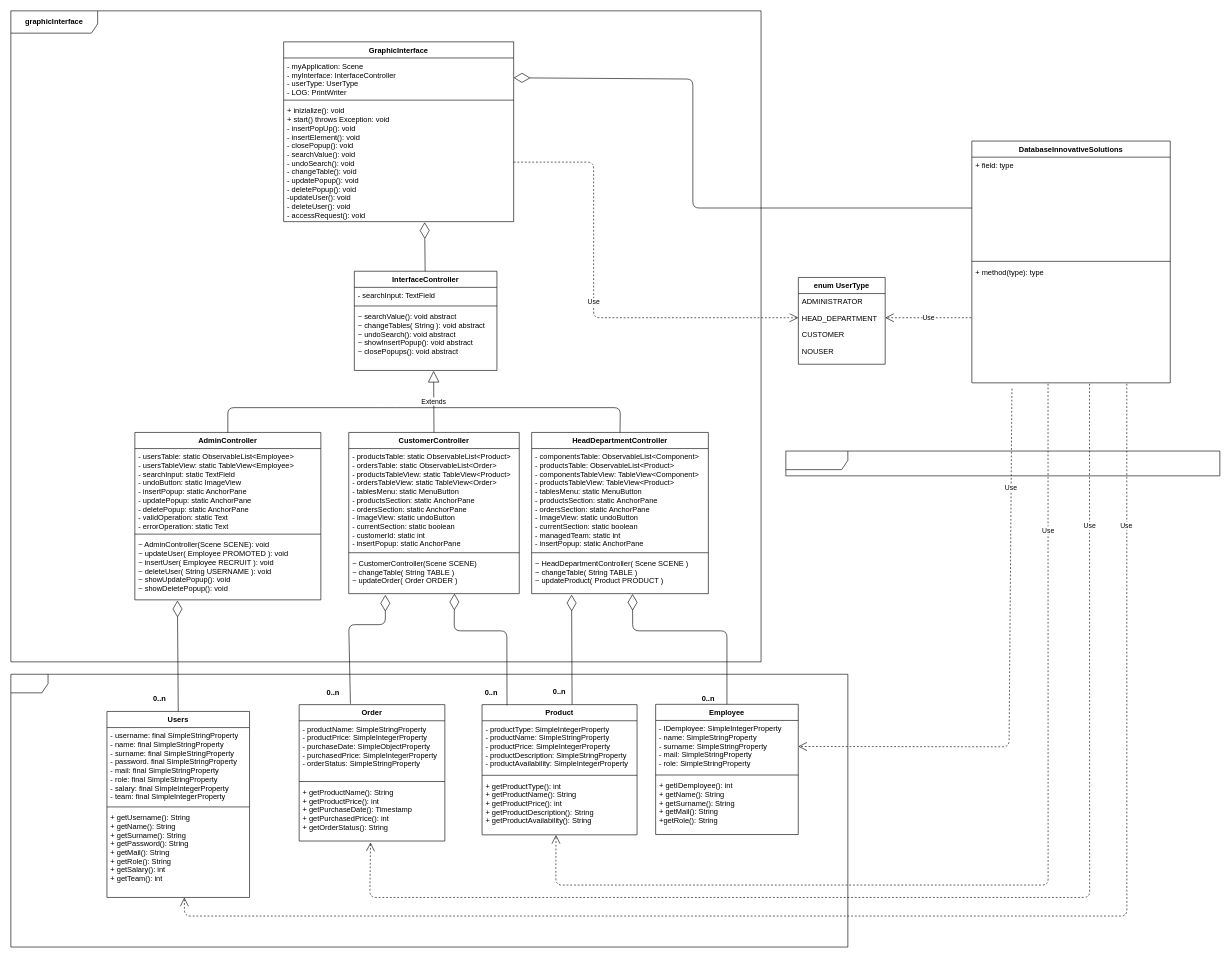
This 1231x958 diagram has some shape labels left out. Here are the shapes that lost their labels. From the top down, the centre of each, then its label:
At (1002,463): "Database Management".
At (429,810): "beans".
